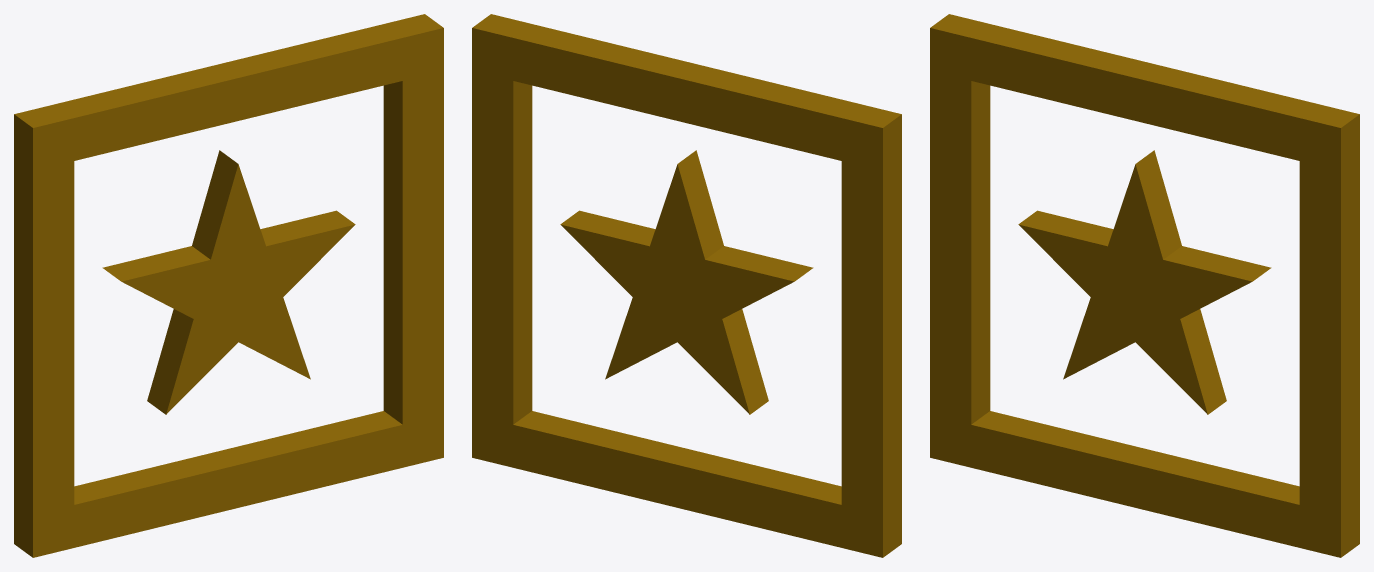
File: bonusInvicible.fbx
3 views of the same model, side by side, from view 1: azimuth 30°, elevation 25°; view 2: azimuth 150°, elevation 25°; view 3: azimuth 330°, elevation 25° (orthographic).
Visible parts, largest first — view 1: 01_Star; view 2: 01_Star; view 3: 01_Star.
Part boxes in pixels (x1=…): 01_Star: x1=14, y1=14, x2=443, y2=557; 01_Star: x1=472, y1=14, x2=901, y2=557; 01_Star: x1=930, y1=14, x2=1359, y2=557.
Bounding box in the file's own units: 1 × 1 × 0.08.
